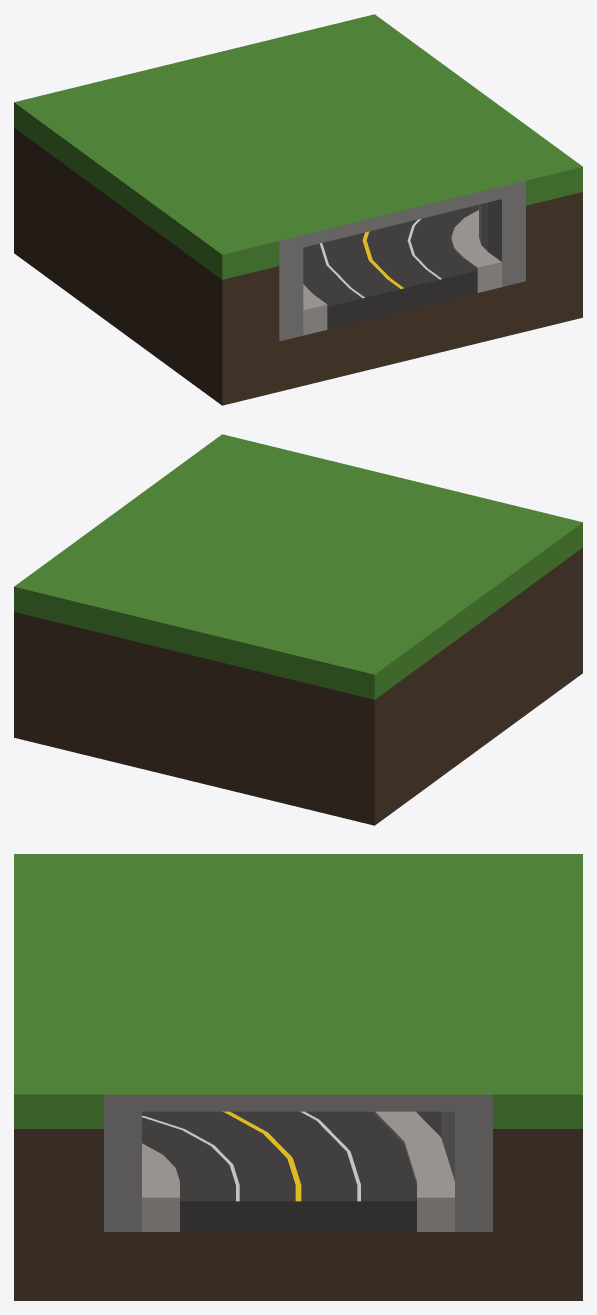
The model's file is tile-mainroad-tunnel-curve.glb.
3 views of the same model, one above another, from view 1: azimuth 30°, elevation 25°; view 2: azimuth 150°, elevation 25°; view 3: azimuth 270°, elevation 25° (orthographic). The views are drawn at different scales.
Visible parts, largest first — view 1: tile-mainroad-tunnel-curve; view 2: tile-mainroad-tunnel-curve; view 3: tile-mainroad-tunnel-curve.
Boxes of the visible parts, left/top/right/bottom form: tile-mainroad-tunnel-curve: left=14, top=14, right=582, bottom=405; tile-mainroad-tunnel-curve: left=14, top=434, right=582, bottom=825; tile-mainroad-tunnel-curve: left=14, top=854, right=582, bottom=1300.
Size of the model in its own units: 30 by 12 by 30.
Materials: 1 (1 with a texture image).
